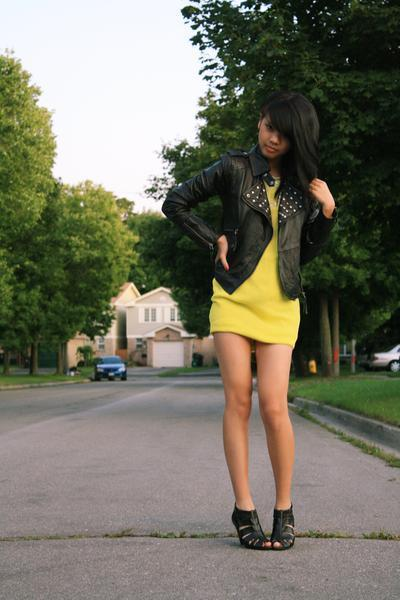dress: (210, 181, 299, 345)
jacket: (162, 150, 329, 304)
shoe: (230, 502, 299, 550)
